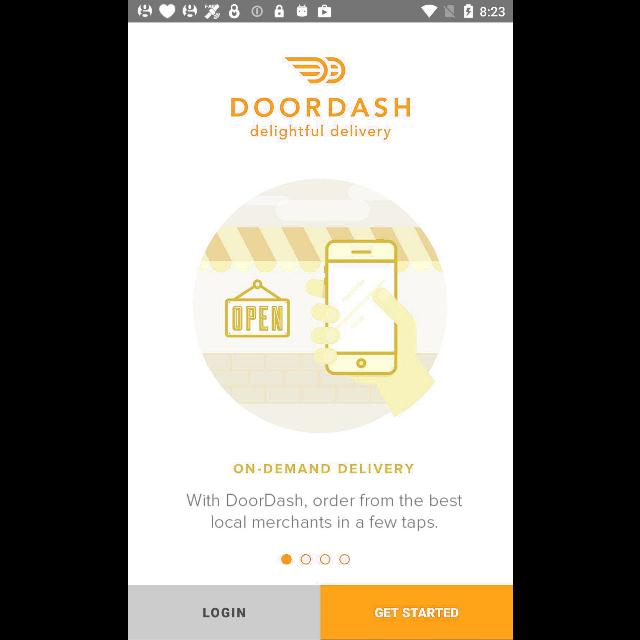image: (192, 178, 446, 434), (283, 58, 345, 84)
pageindicator: (280, 554, 350, 566)
text: (185, 492, 462, 532), (230, 97, 410, 117), (250, 125, 390, 141), (232, 462, 413, 473)
textbutton: (127, 584, 319, 640), (320, 584, 512, 640)
uppertaskbar: (128, 1, 512, 23)
